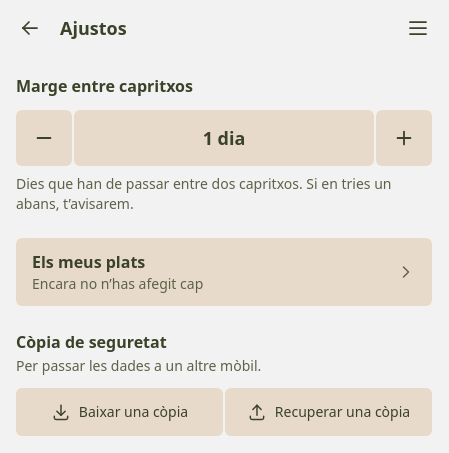
Scenario: SettingsScreen › diu "1 dia" en singular i no baixa de 0
The width and height of the screenshot is (449, 453).
Expected: the heading "Ajustos" is shown, [60, 16, 127, 40]
Expected: the text "1 dia" is shown, [74, 110, 374, 166]
Click the button named "Un dia menys" at (44, 138), box [16, 110, 72, 166]
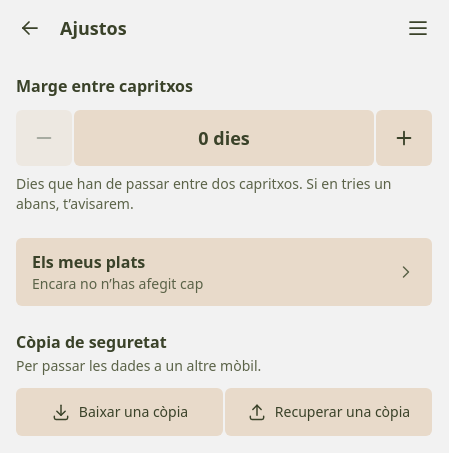
Expected: the text "0 dies" is shown, [74, 110, 374, 166]
Expected: the button named "Un dia menys" is disabled, [16, 110, 72, 166]
